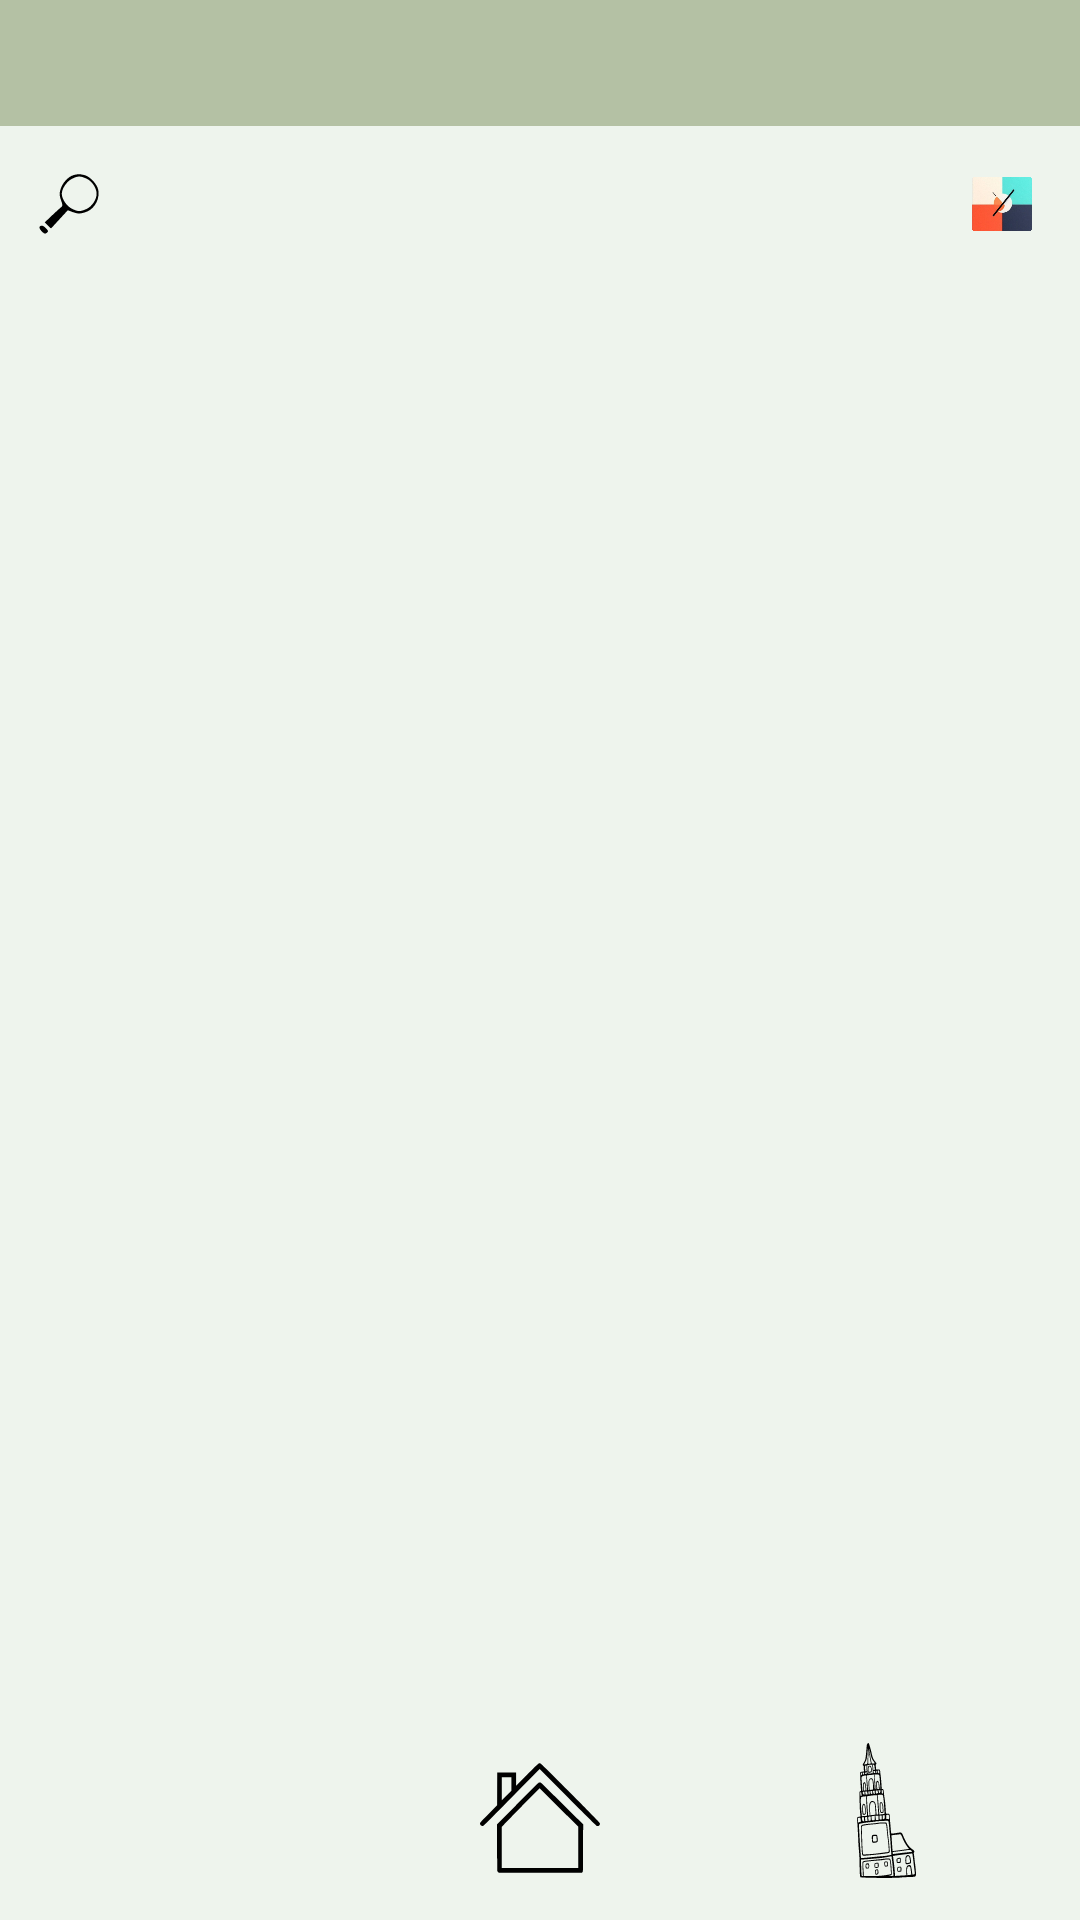

Icons on this 1080*1920 Android screen, each with its box as region(x1, y1, x2, y2):
иконка дома: region(480, 1763, 600, 1873)
иконка приложения: region(972, 177, 1032, 231)
невьянская башня: region(857, 1743, 916, 1878)
поиск: region(39, 174, 99, 234)
